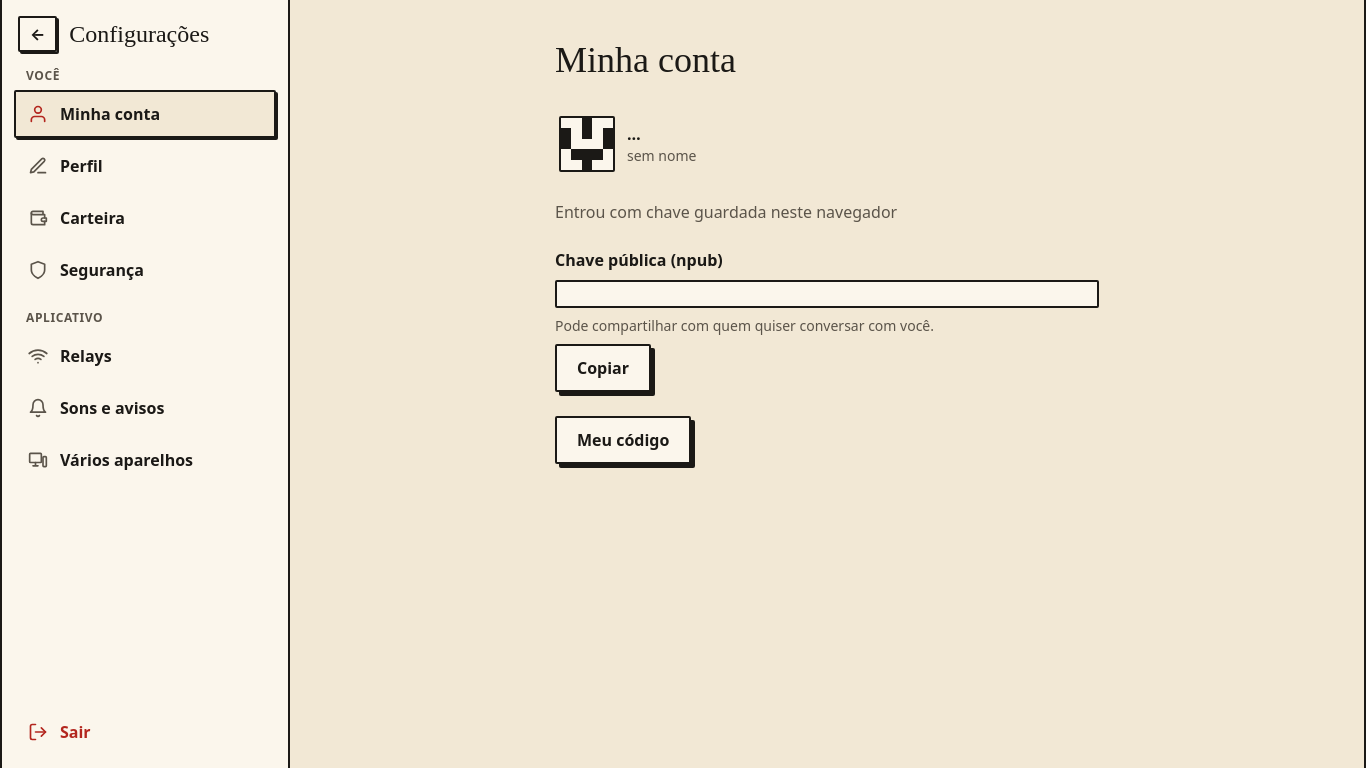
tela de configuracoes (RN-WEB-LAYOUT-008) › RN-WEB-LAYOUT-008: escolher uma secao abre ela ao lado do menu e a destaca
Click the link "Carteira": (76, 218) [28,207,125,229]
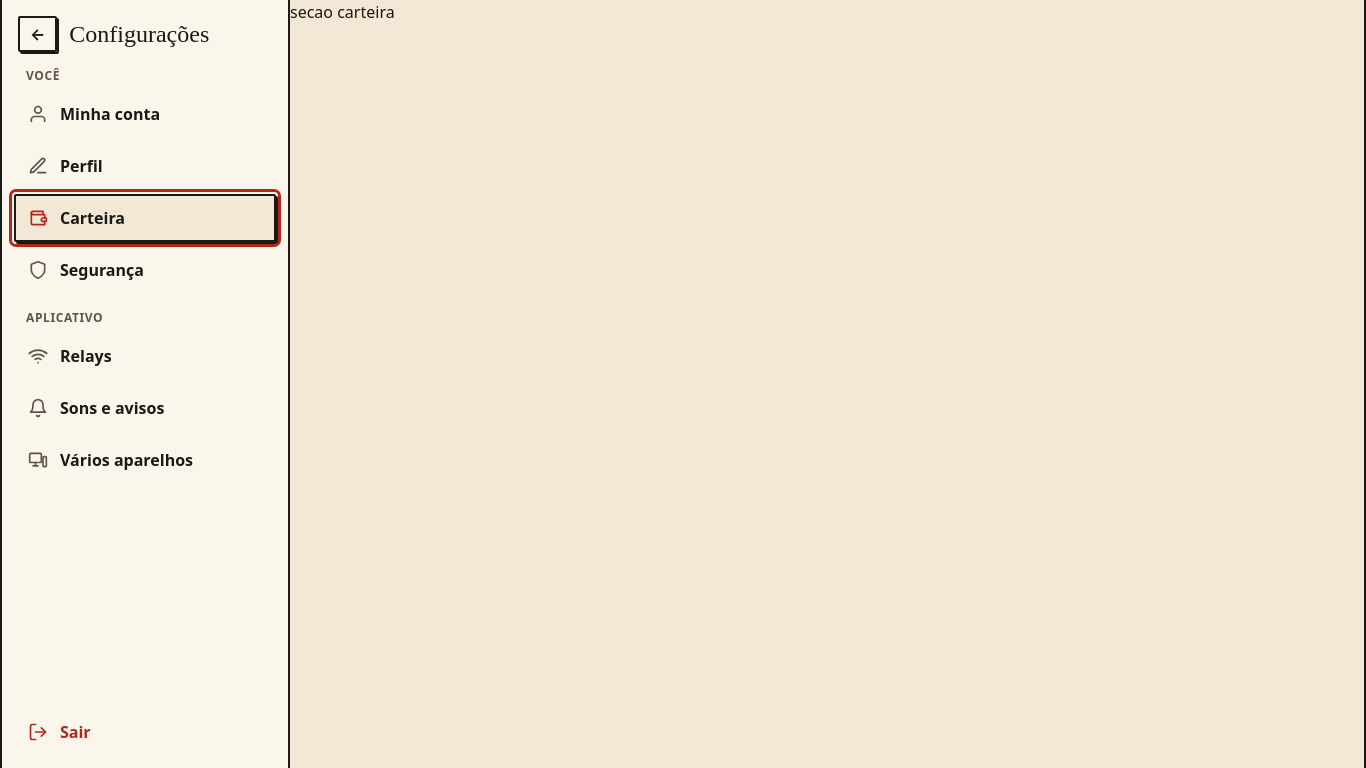
Expected: the text "secao carteira" is shown, [290,1,395,23]
